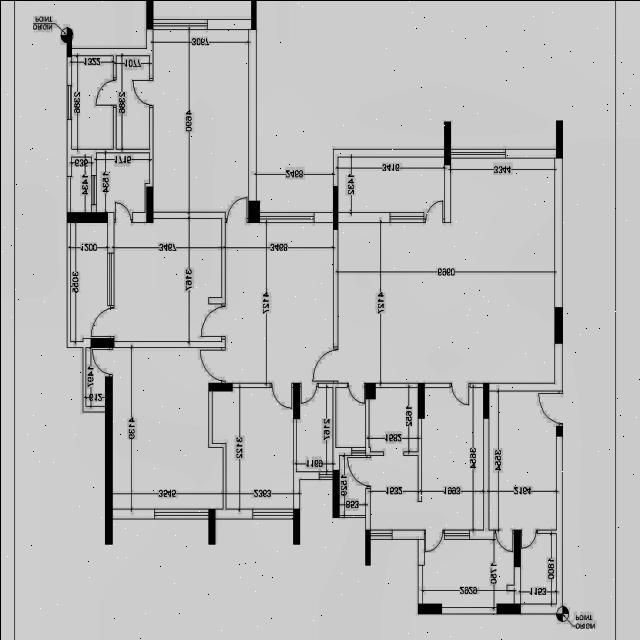Column: (66, 211, 107, 222), (443, 120, 450, 164), (554, 306, 562, 342), (332, 469, 338, 517), (247, 200, 259, 222), (90, 337, 114, 347), (496, 603, 520, 613), (417, 603, 441, 613), (513, 528, 519, 566), (556, 120, 562, 158), (332, 185, 337, 229), (482, 382, 488, 418), (417, 382, 423, 418), (364, 528, 370, 564), (292, 382, 298, 418), (292, 508, 298, 544), (208, 508, 214, 544), (146, 186, 152, 222), (208, 382, 232, 390), (145, 0, 151, 29), (364, 382, 374, 398), (250, 0, 255, 29), (66, 34, 71, 56), (556, 425, 562, 435)
Door: (198, 346, 224, 382), (199, 302, 225, 338), (537, 390, 562, 425), (346, 454, 369, 488), (90, 305, 114, 337), (130, 77, 152, 107), (224, 195, 248, 222), (268, 382, 292, 409), (94, 76, 115, 106), (90, 347, 112, 375), (449, 382, 469, 404), (424, 529, 444, 551), (493, 529, 513, 551), (424, 200, 444, 222), (113, 200, 132, 222), (300, 382, 318, 404), (346, 382, 364, 403), (520, 529, 536, 548)
Window: (152, 18, 206, 28), (259, 212, 313, 222), (450, 148, 504, 158), (154, 508, 208, 518), (106, 252, 114, 305), (252, 508, 292, 518), (389, 212, 423, 222), (443, 529, 469, 539), (369, 528, 392, 538), (90, 174, 96, 204), (66, 85, 71, 118), (350, 446, 364, 454), (318, 471, 332, 478)
